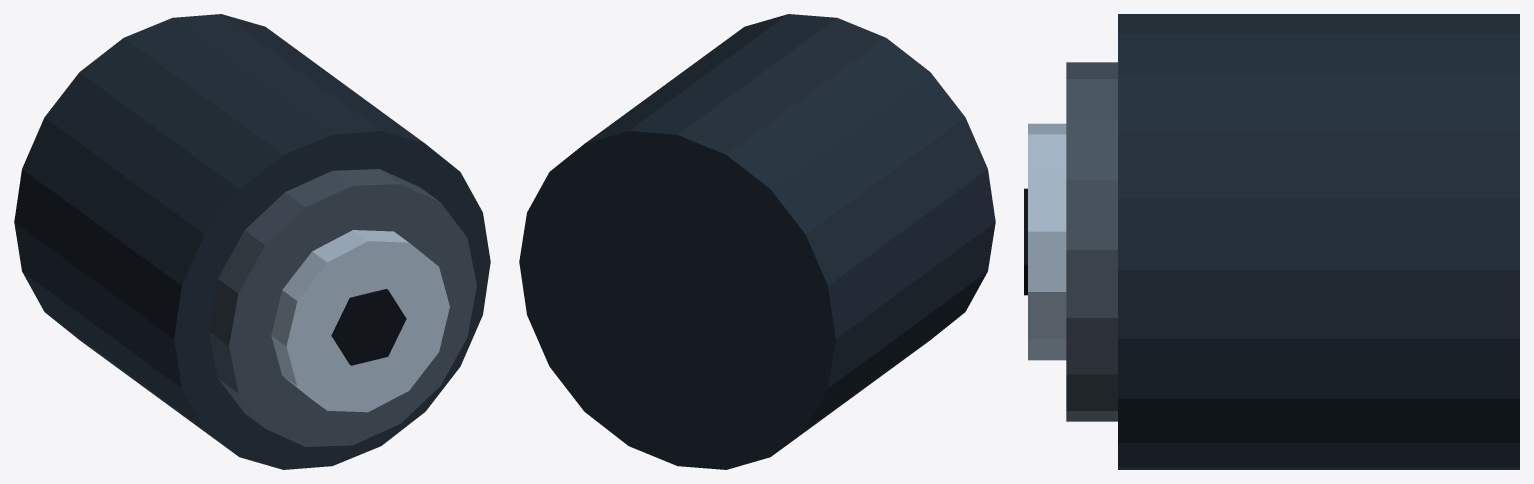
Rendered from PinkingShears_Evolved_Pivot.obj.
3 views of the same model, side by side, from view 1: azimuth 30°, elevation 25°; view 2: azimuth 150°, elevation 25°; view 3: azimuth 270°, elevation 25° (orthographic). The views are drawn at different scales.
Parts seen in each view (by area): view 1: DarkSteel, SteelFrame, GroundSteel, Rubber; view 2: DarkSteel; view 3: DarkSteel, SteelFrame, GroundSteel.
Boxes of the visible parts, left/top/right/bottom form: DarkSteel: left=14, top=14, right=490, bottom=469; SteelFrame: left=208, top=169, right=476, bottom=446; GroundSteel: left=271, top=230, right=449, bottom=412; Rubber: left=331, top=289, right=406, bottom=365; DarkSteel: left=519, top=14, right=995, bottom=469; DarkSteel: left=1118, top=14, right=1519, bottom=469; SteelFrame: left=1066, top=62, right=1117, bottom=421; GroundSteel: left=1028, top=123, right=1066, bottom=360.
Bounding box in the file's own units: 0.12 × 0.12 × 0.1295.
